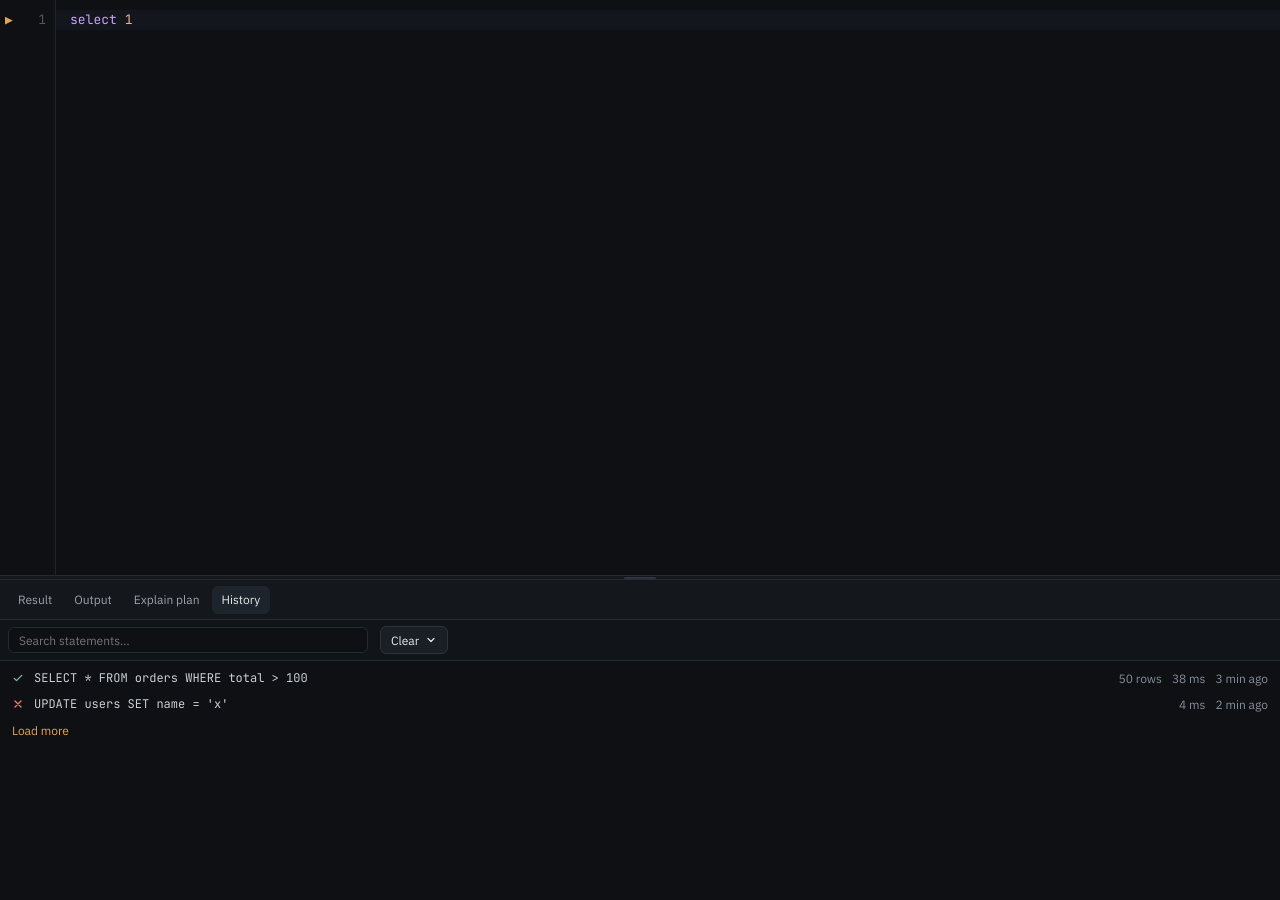
Test case: History tab › loads older entries with the cursor
Step 1. Click the button "Load more" → (40, 730), box [12, 723, 69, 738]
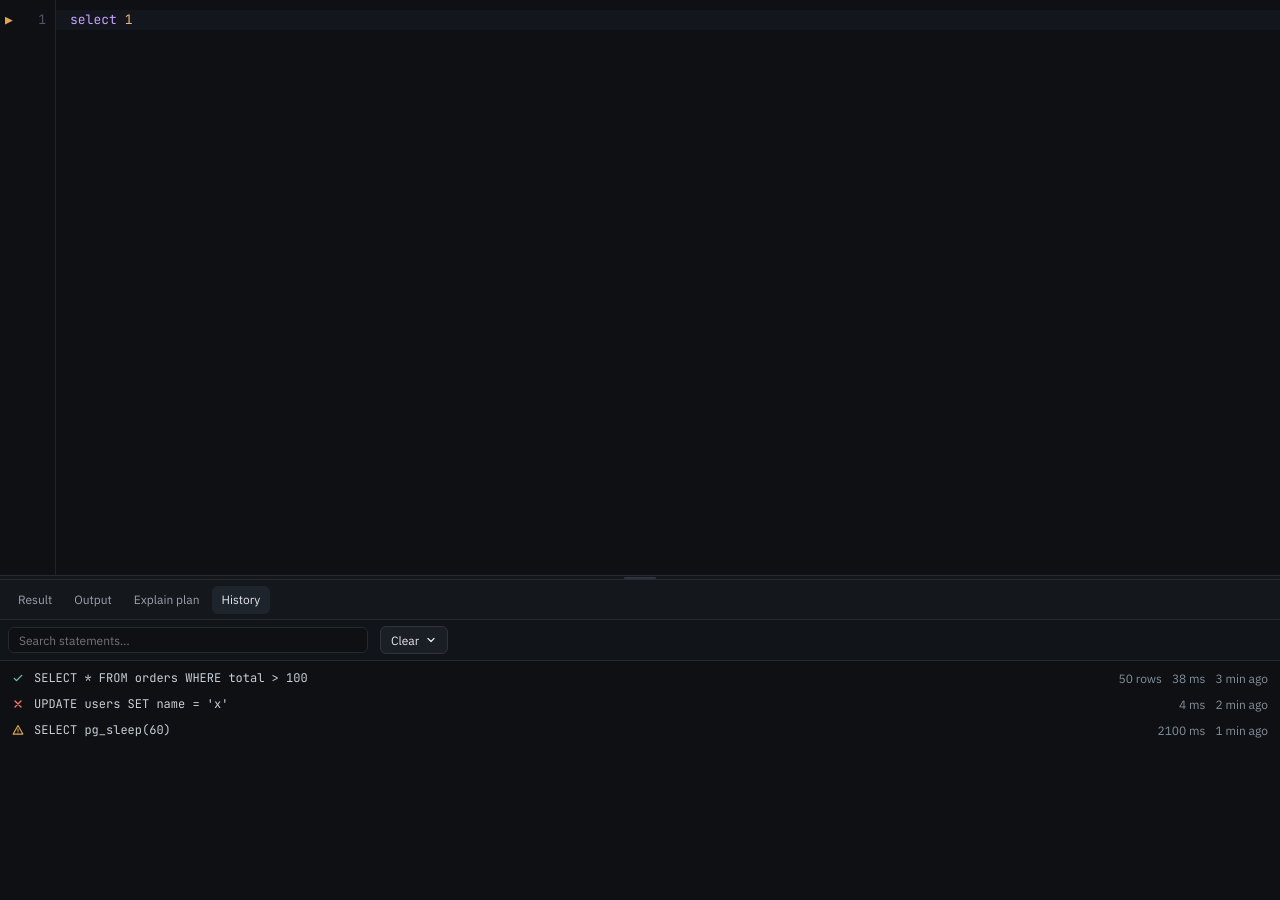
Result: the number of options is 3 at [0, 665, 1279, 691]; [0, 691, 1279, 717]; [0, 717, 1279, 743]
Result: the button "Load more" is gone
